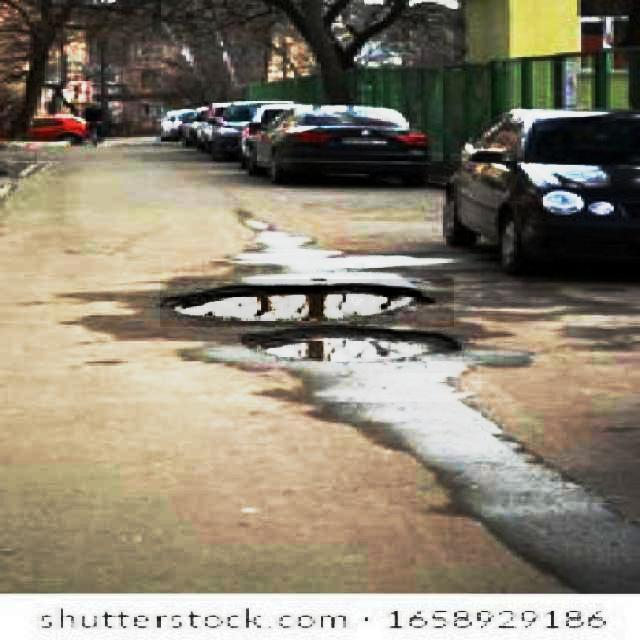pothole: (216, 318, 506, 373), (160, 279, 454, 327)
